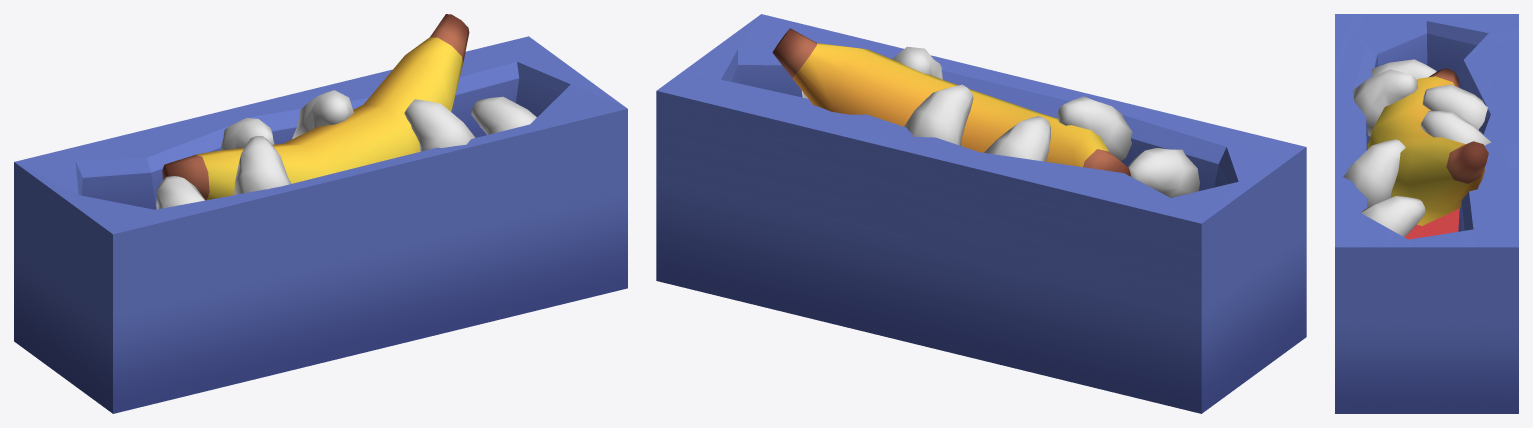
The model's file is itemBanana.fbx.
3 views of the same model, side by side, from view 1: azimuth 30°, elevation 25°; view 2: azimuth 150°, elevation 25°; view 3: azimuth 270°, elevation 25° (orthographic). The views are drawn at different scales.
Visible parts, largest first — view 1: mouth, tooth1, tooth5, tooth6, tooth2, tooth, tooth3, tooth4; view 2: mouth, tooth1, tooth, tooth3, tooth6, tooth4, tooth5; view 3: mouth, tooth1, tooth5, tooth6, tooth4, tooth2, tooth, tooth3.
Part boxes in pixels (x1,y1,x2,y2): mouth: [14, 36, 627, 413]; tooth1: [162, 14, 469, 200]; tooth5: [404, 99, 475, 151]; tooth6: [234, 136, 291, 194]; tooth2: [471, 96, 536, 134]; tooth: [292, 90, 353, 138]; tooth3: [156, 176, 205, 209]; tooth4: [220, 118, 274, 150]; mouth: [656, 14, 1306, 413]; tooth1: [772, 28, 1130, 176]; tooth: [904, 84, 973, 145]; tooth3: [1128, 148, 1199, 197]; tooth6: [1057, 96, 1132, 160]; tooth4: [984, 116, 1050, 161]; tooth5: [892, 46, 942, 79]; mouth: [1335, 14, 1518, 413]; tooth1: [1367, 68, 1488, 225]; tooth5: [1343, 139, 1405, 207]; tooth6: [1353, 69, 1417, 136]; tooth4: [1422, 84, 1487, 129]; tooth2: [1361, 196, 1425, 237]; tooth: [1420, 111, 1491, 145]; tooth3: [1371, 59, 1436, 79].
Bounding box in the file's own units: 600 × 272 × 200.
